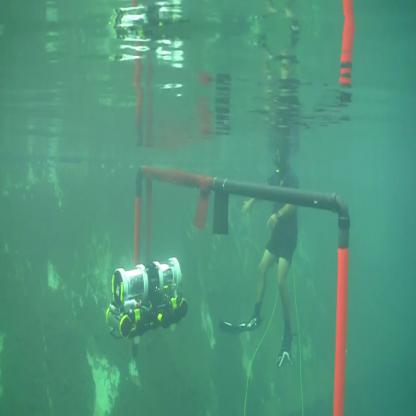gate: (131, 156, 358, 416)
